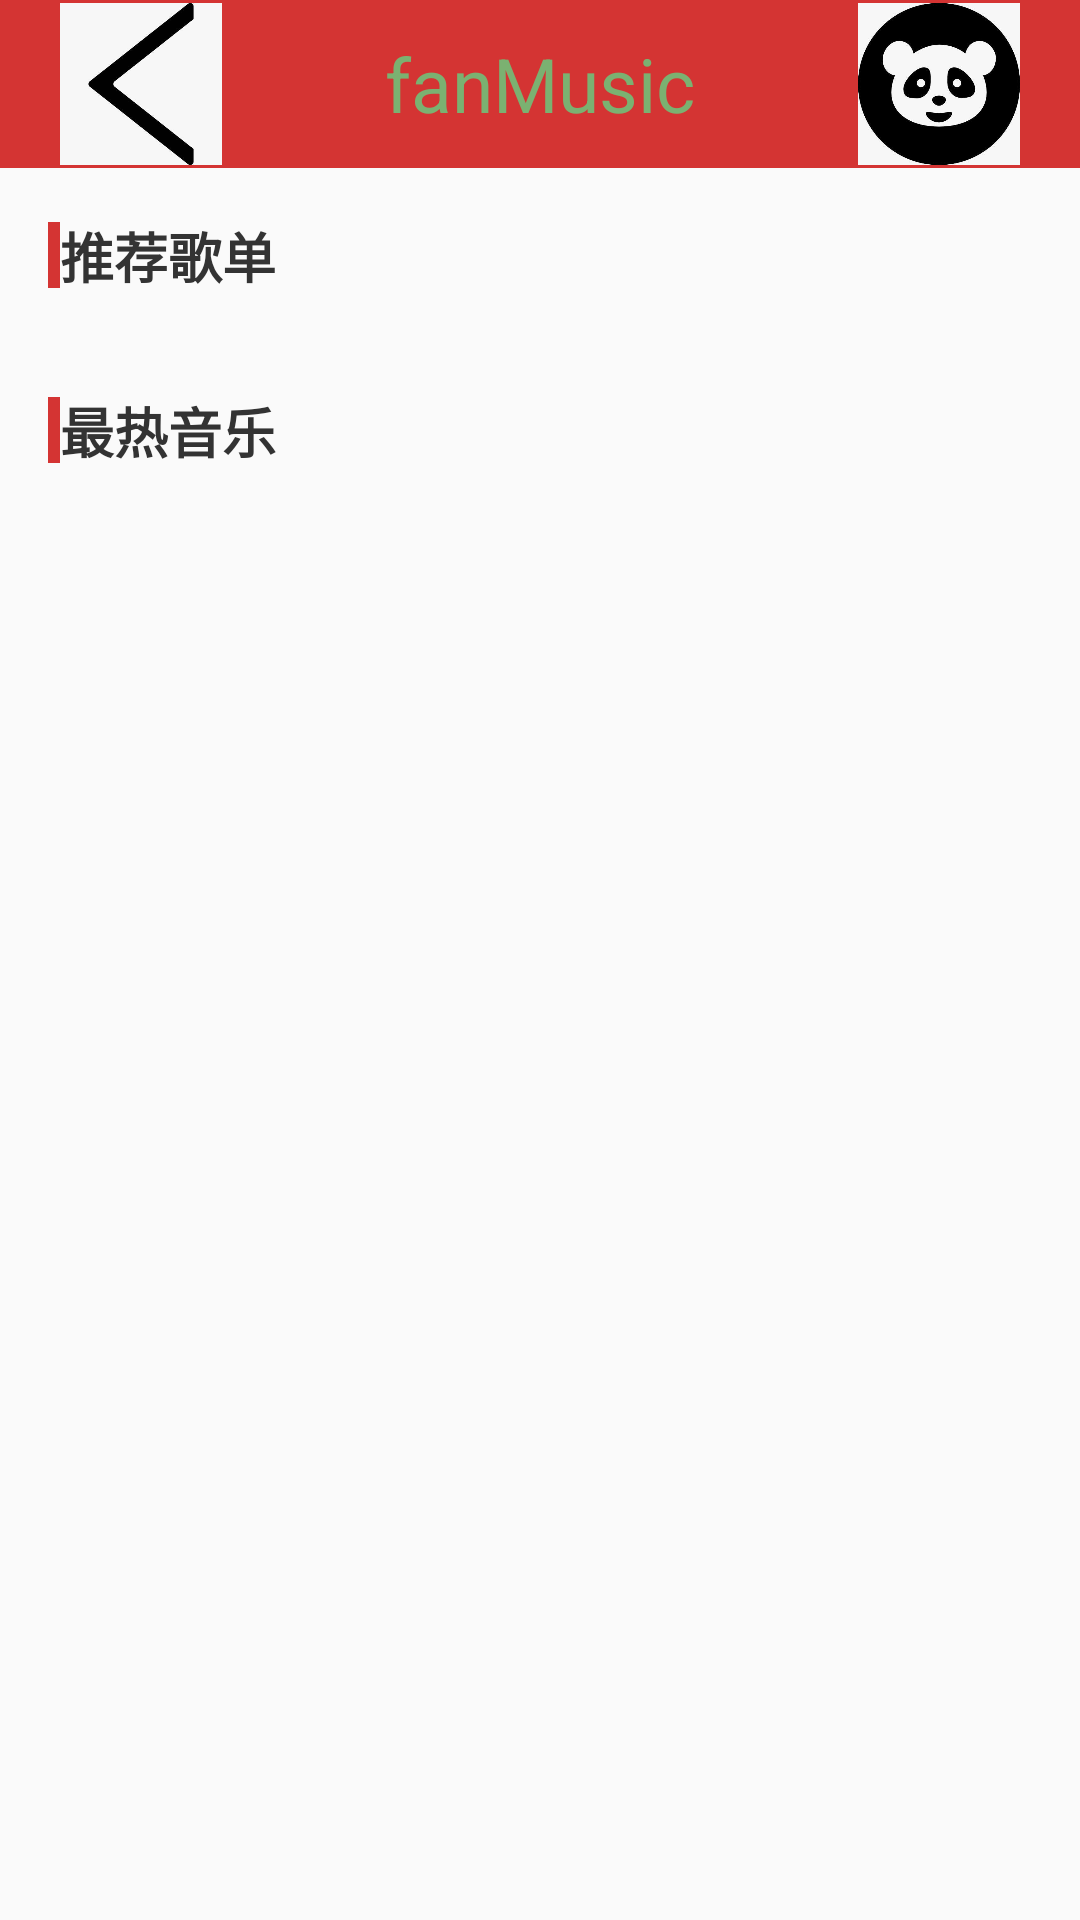

Where to tap for icons on this 1080x1920 app screen, as point (x, y):
back: point (141, 84)
